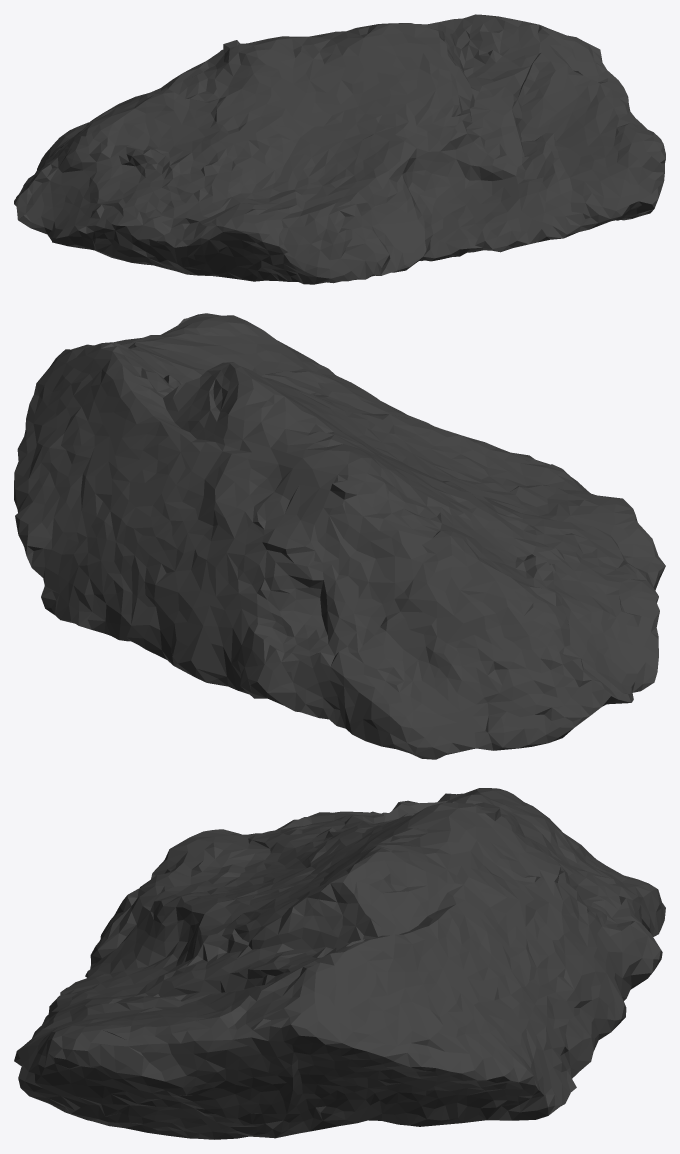
3 views of the same model, one above another, from view 1: azimuth 30°, elevation 25°; view 2: azimuth 150°, elevation 25°; view 3: azimuth 270°, elevation 25° (orthographic). The views are drawn at different scales.
Parts seen in each view (by area): view 1: moon_rock_04_h1_v8ax_h420_2s.obj; view 2: moon_rock_04_h1_v8ax_h420_2s.obj; view 3: moon_rock_04_h1_v8ax_h420_2s.obj.
Boxes of the visible parts, box(x1,y1,x2,y2) form: moon_rock_04_h1_v8ax_h420_2s.obj: box(14, 14, 665, 284); moon_rock_04_h1_v8ax_h420_2s.obj: box(14, 313, 665, 759); moon_rock_04_h1_v8ax_h420_2s.obj: box(14, 788, 665, 1139).
Bounding box in the file's own units: 1.29 × 0.42 × 1.08.
Materials: 1 (1 with a texture image).
